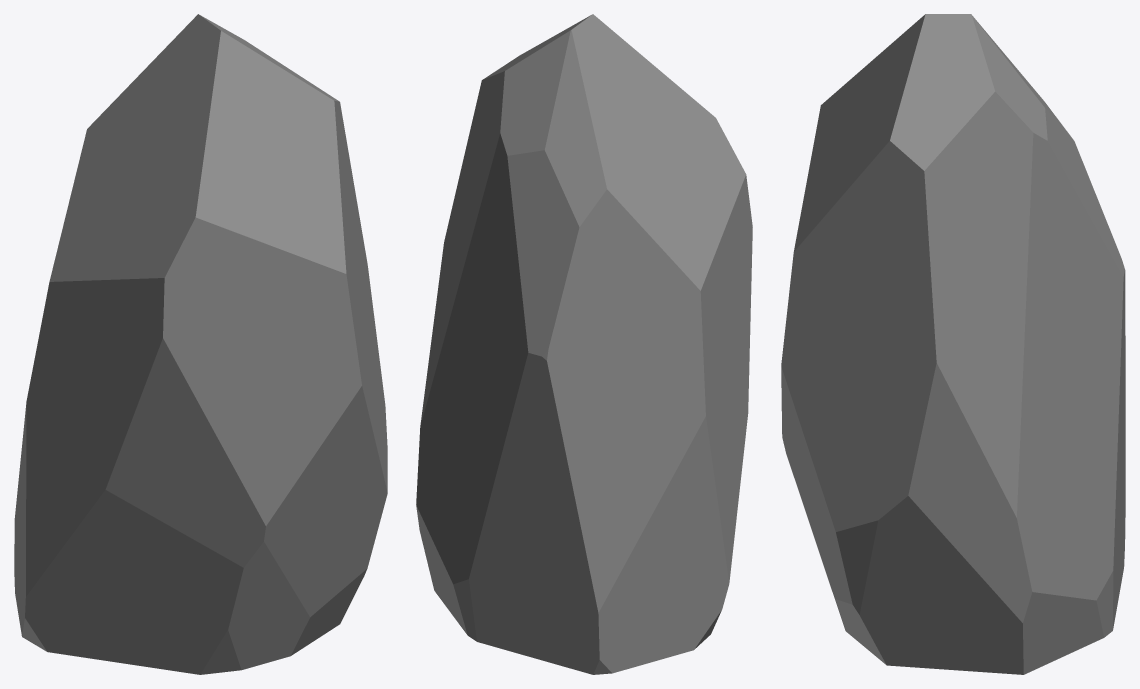
File: HardRock_18.fbx
3 renders of one model, left to right at view 1: azimuth 30°, elevation 25°; view 2: azimuth 150°, elevation 25°; view 3: azimuth 270°, elevation 25°, orthographic. The views are drawn at different scales.
Parts seen in each view (by area): view 1: HardRock_18; view 2: HardRock_18; view 3: HardRock_18.
Boxes of the visible parts, x1,y1,x2,y2 form: HardRock_18: (14, 14, 387, 674); HardRock_18: (416, 14, 752, 674); HardRock_18: (781, 14, 1125, 674).
Bounding box in the file's own units: 70.67 × 125 × 64.87.
